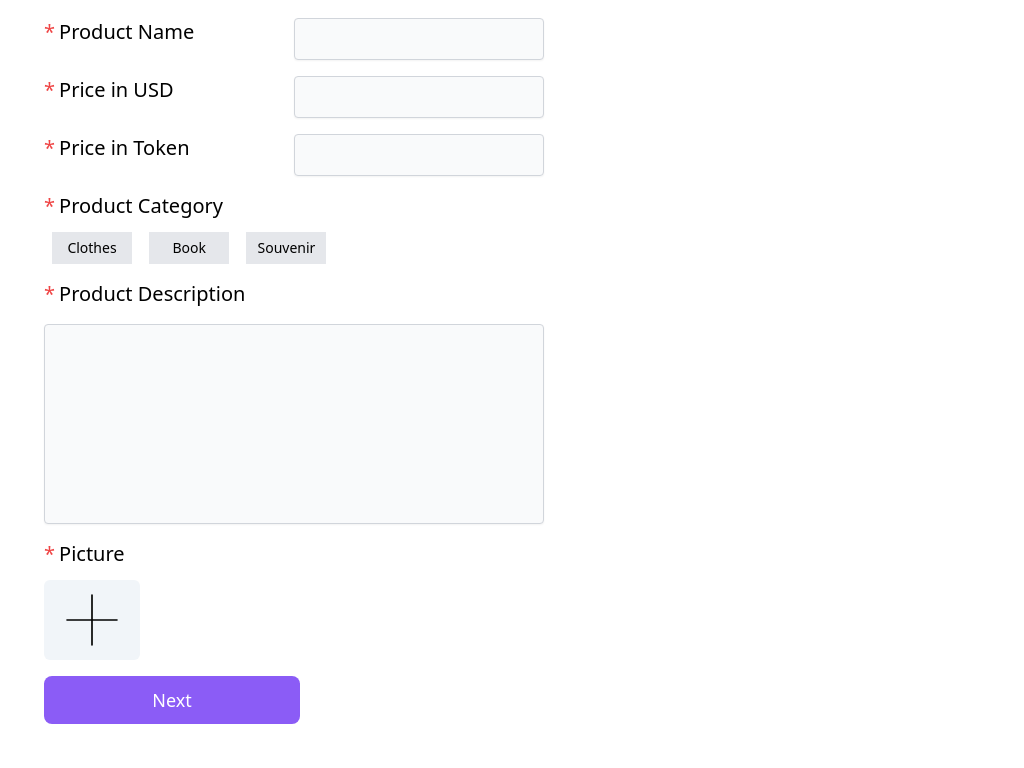
Test: Create product test › should display alert when click submit with empty field
This screenshot has width=1024, height=768.
(page scrolled)
What coordinates should you click on to do the following:
click the button with class "next"
I would click on:
 (172, 700)
Its box is [44,676,300,724].
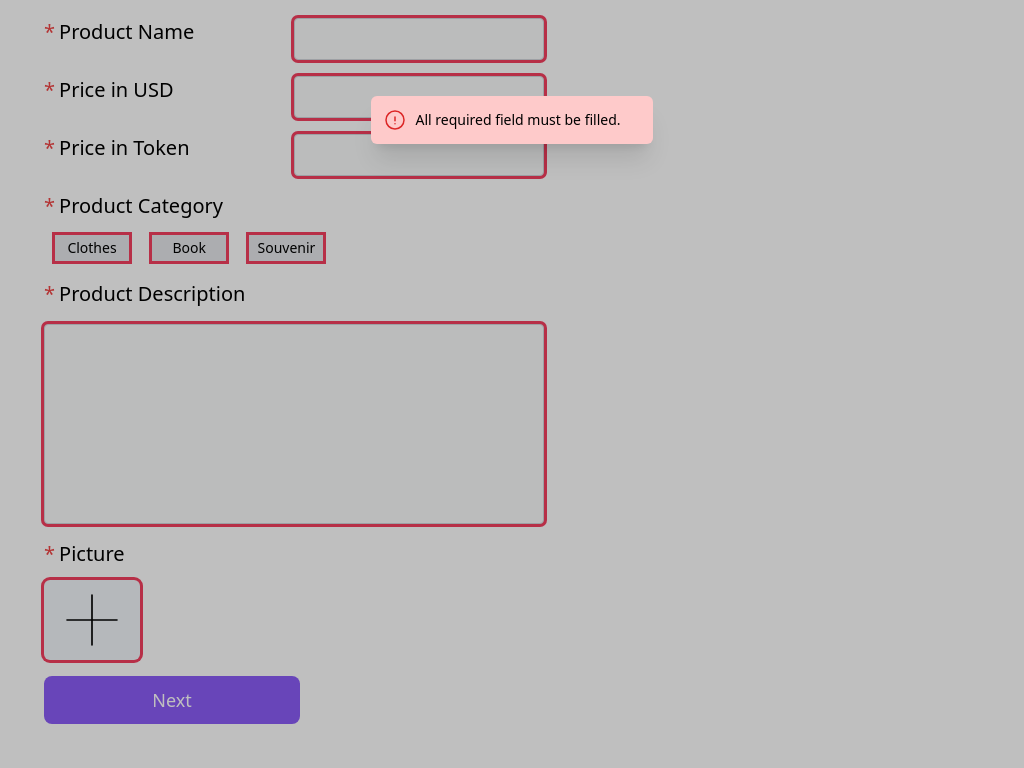
expect the text "All required field must be filled." is shown: met, box [383,108,640,132]
